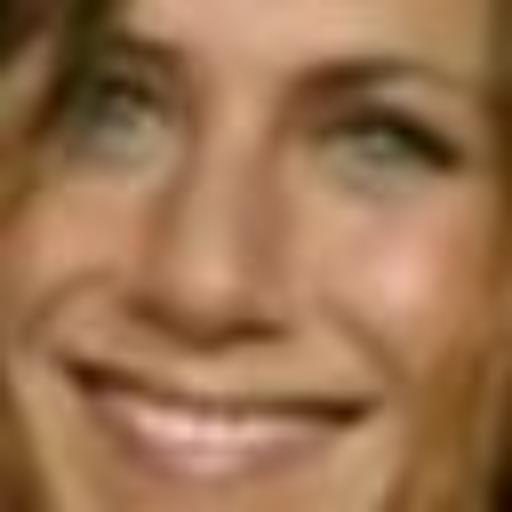left_eye: (325, 101, 442, 182)
left_lip_corner: (341, 378, 401, 440)
right_eye: (59, 72, 166, 146)
right_lip_corner: (43, 339, 105, 397)
